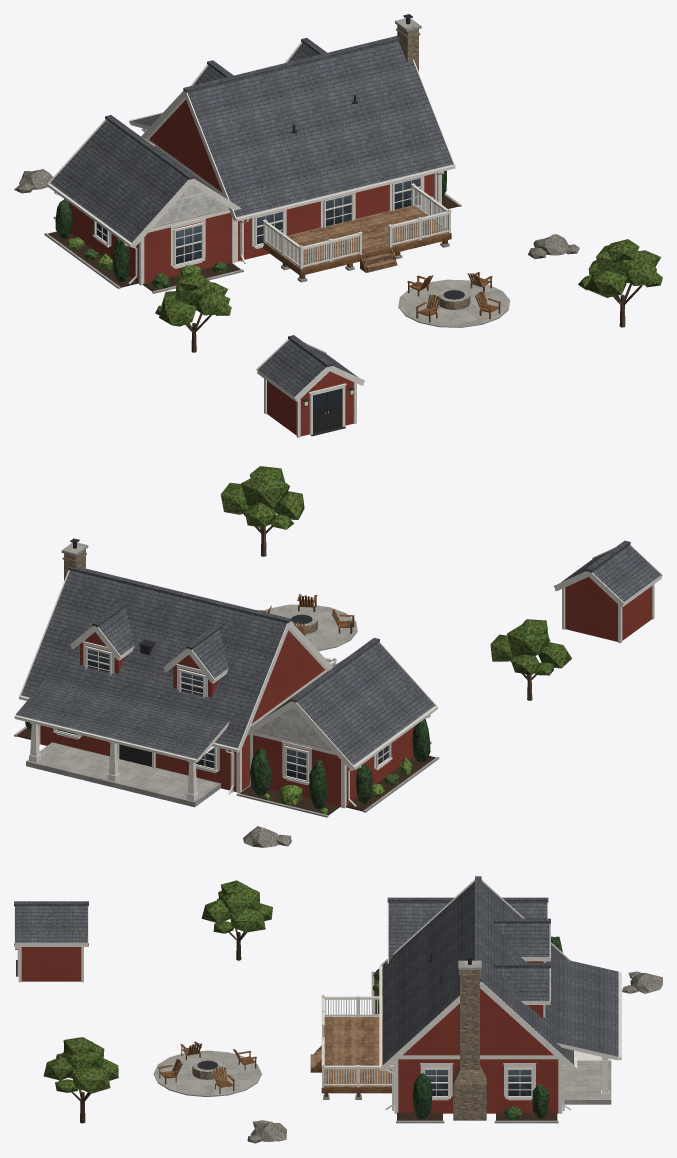
File: se_cottage_red.fbx
3 renders of one model, top to bottom at view 1: azimuth 30°, elevation 25°; view 2: azimuth 150°, elevation 25°; view 3: azimuth 270°, elevation 25°, orthographic. The views are drawn at different scales.
Parts seen in each view (by area): view 1: se_cottage_red_LOD0; view 2: se_cottage_red_LOD0; view 3: se_cottage_red_LOD0.
Boxes of the visible parts, left/top/right/bottom form: se_cottage_red_LOD0: left=14, top=14, right=662, bottom=437; se_cottage_red_LOD0: left=14, top=466, right=662, bottom=847; se_cottage_red_LOD0: left=14, top=876, right=662, bottom=1143.
Size of what is drawn, in the model's own units: 22.72 by 8.47 by 31.19.
2 materials, 2 textured.
